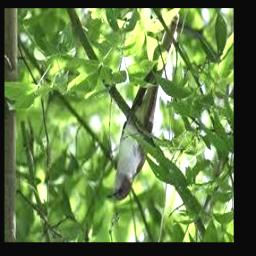Cuckoo: (107, 12, 180, 201)
